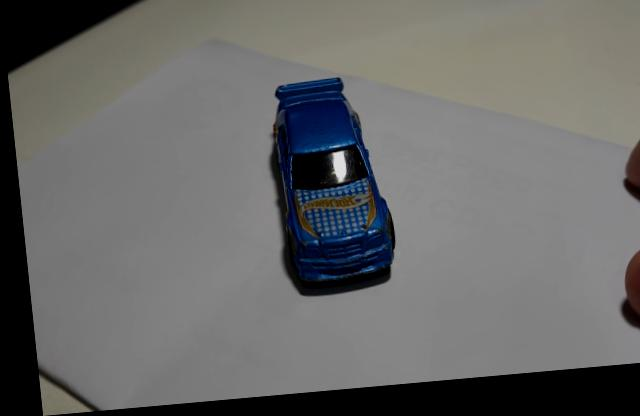04_MERZEDES: (268, 84, 390, 295)
